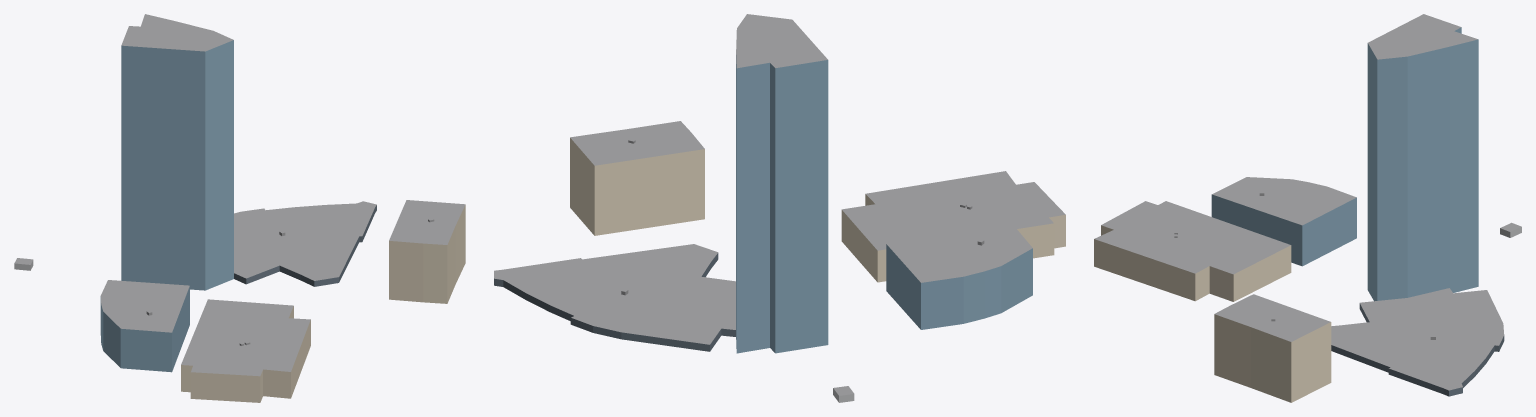
The model's file is building_-5_6.glb.
3 views of the same model, side by side, from view 1: azimuth 30°, elevation 25°; view 2: azimuth 150°, elevation 25°; view 3: azimuth 270°, elevation 25° (orthographic). The views are drawn at different scales.
Parts seen in each view (by area): view 1: glass_blue, roof, sandstone, glass_dark; view 2: roof, glass_blue, sandstone, glass_dark; view 3: glass_blue, roof, sandstone, glass_dark.
Part boxes in pixels (x1,y1,x2,y2): glass_blue: (100, 40, 233, 372); roof: (14, 14, 465, 376); sandstone: (181, 205, 465, 402); glass_dark: (234, 205, 376, 286); roof: (494, 14, 1065, 395); glass_blue: (736, 55, 1032, 353); sandstone: (570, 138, 1065, 282); glass_dark: (494, 253, 735, 351); glass_blue: (1211, 27, 1478, 301); roof: (1094, 14, 1521, 390); sandstone: (1094, 225, 1331, 402); glass_dark: (1331, 303, 1504, 396).
Size of the model in its own units: 209 by 130 by 204.
